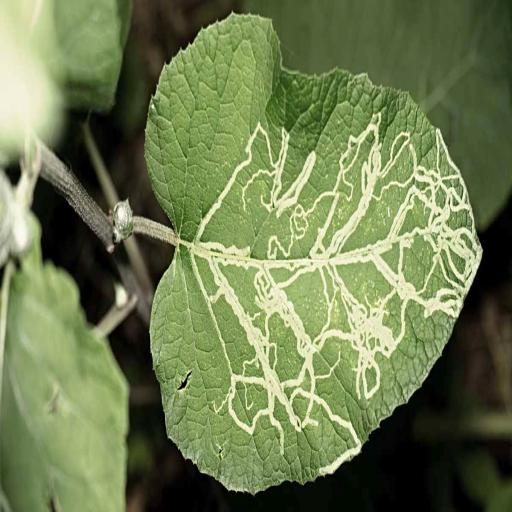disease_tomato: (145, 14, 483, 494)
